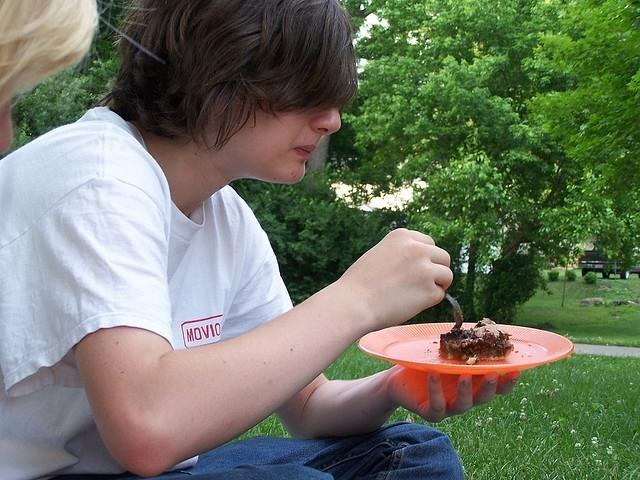truck: (578, 250, 640, 279)
